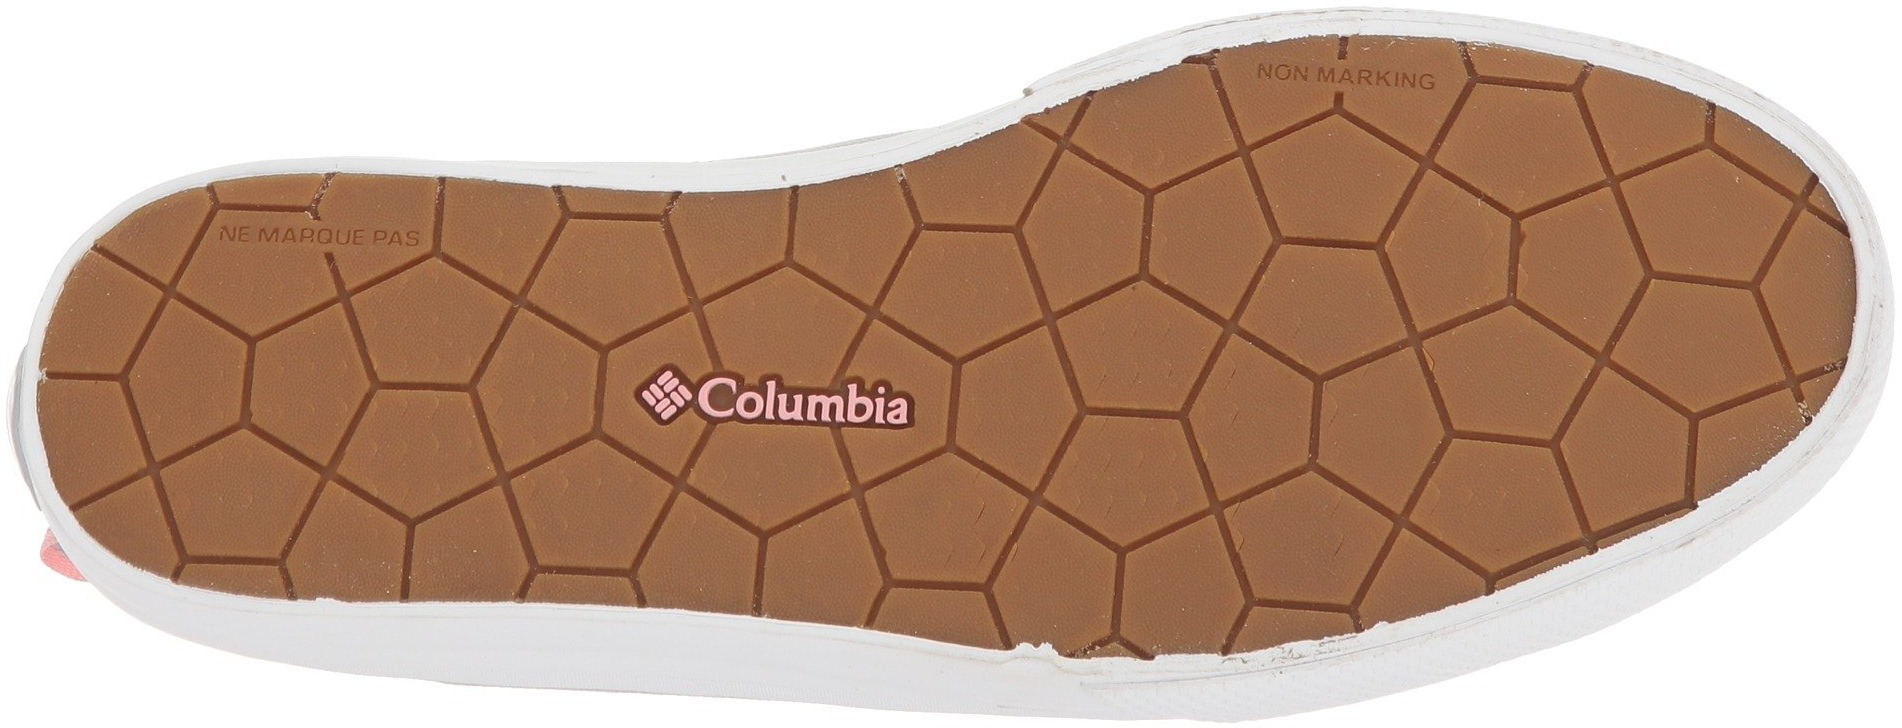polygon: (1291, 99, 1615, 425), (334, 303, 628, 582), (1009, 131, 1291, 422), (80, 279, 319, 514), (1168, 430, 1389, 627), (1618, 158, 1809, 376), (819, 190, 996, 372), (801, 484, 986, 625), (1399, 433, 1577, 578)
text: (714, 326, 816, 454), (822, 370, 919, 470), (328, 199, 427, 286), (1282, 36, 1359, 110), (237, 209, 298, 262), (1391, 57, 1435, 104)
